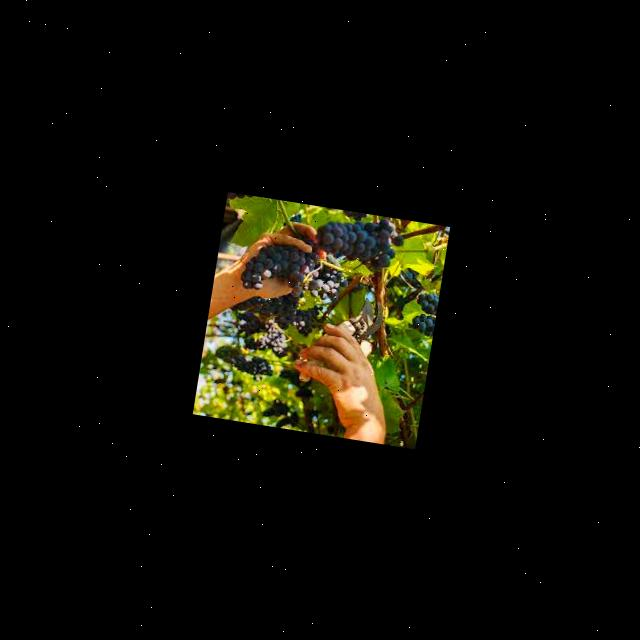grape: (316, 212, 396, 276), (242, 234, 318, 292)
